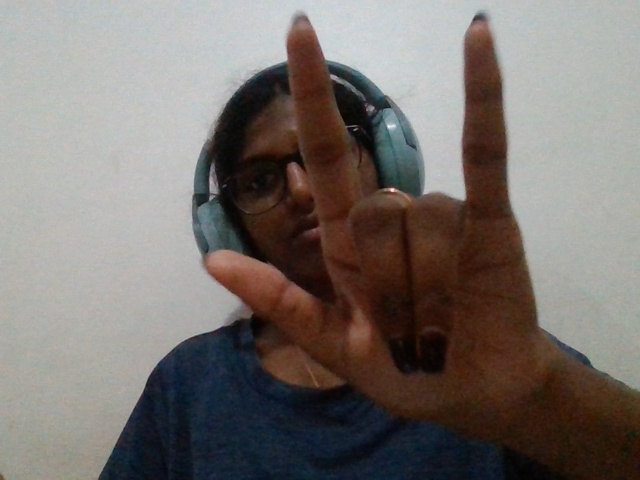I Love You: (197, 5, 604, 472)
